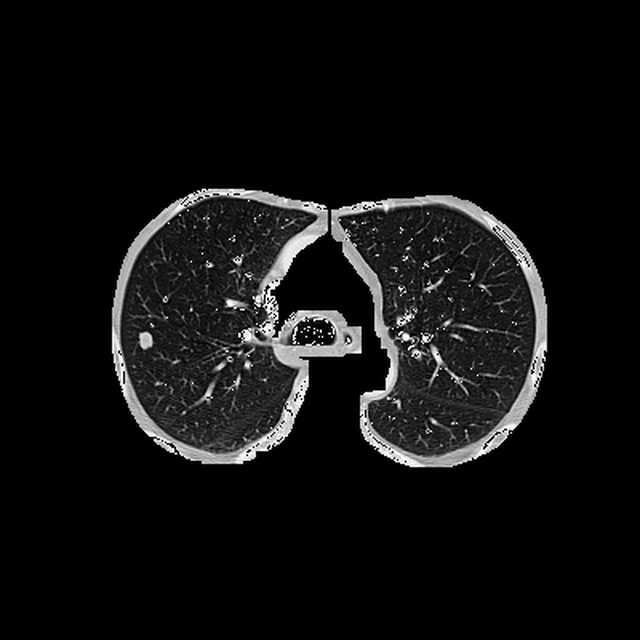PN: (138, 333, 154, 349)
